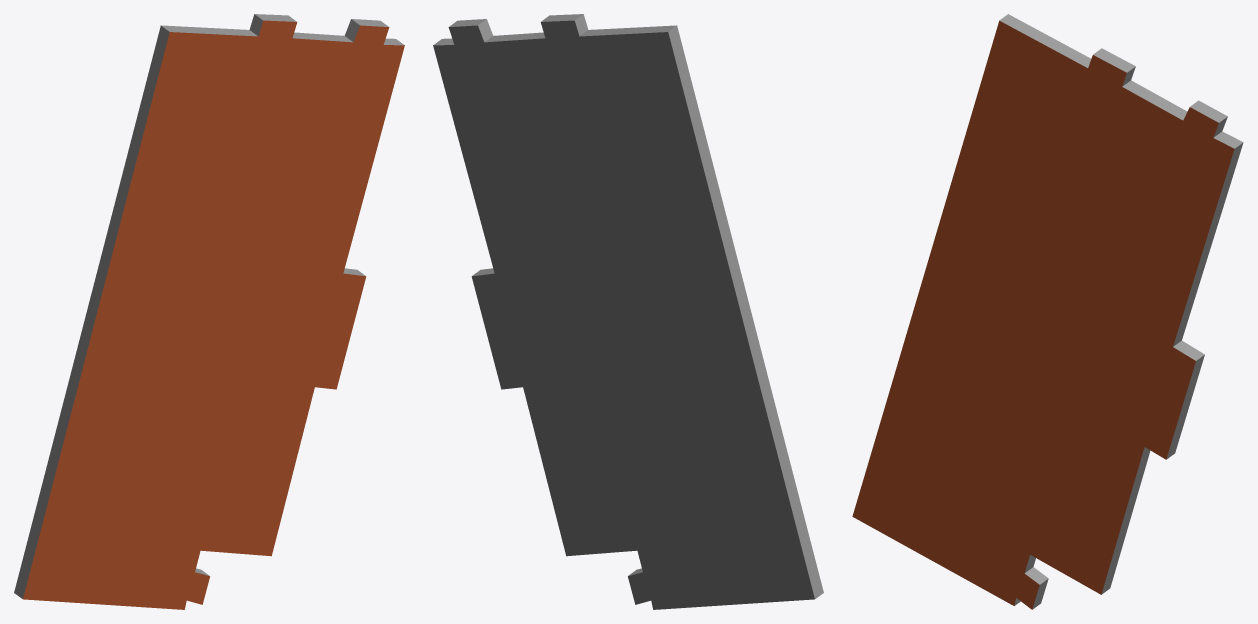
File: construction_0100_assumed_A_Grande_construcao_h6m.obj
3 renders of one model, left to right at view 1: azimuth 30°, elevation 25°; view 2: azimuth 150°, elevation 25°; view 3: azimuth 330°, elevation 25°, orthographic.
Parts seen in each view (by area): view 1: construction_0100_assumed_A_Grande_construcao; view 2: construction_0100_assumed_A_Grande_construcao; view 3: construction_0100_assumed_A_Grande_construcao.
Part boxes in pixels (<box>): construction_0100_assumed_A_Grande_construcao: <box>14,14,404,609</box>; construction_0100_assumed_A_Grande_construcao: <box>433,14,823,609</box>; construction_0100_assumed_A_Grande_construcao: <box>852,14,1243,609</box>.
Bounding box in the file's own units: 148 × 216 × 6.
